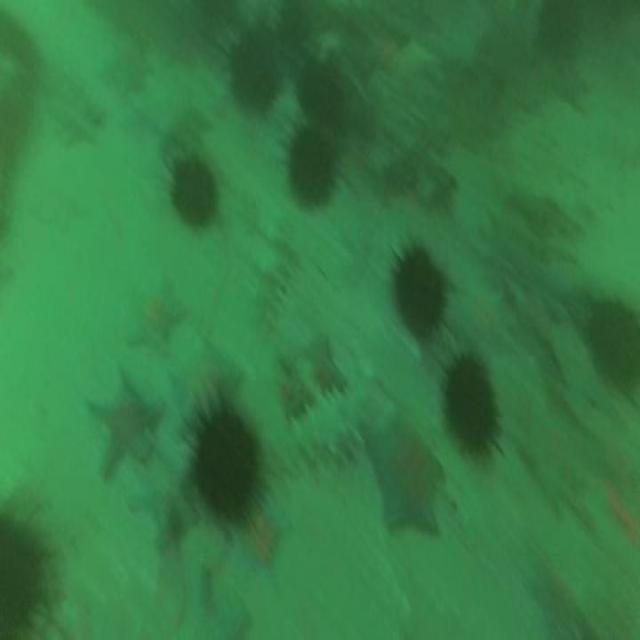echinus: (193, 414, 256, 518), (2, 512, 49, 640), (588, 297, 640, 397), (445, 357, 498, 454), (393, 247, 445, 335), (229, 27, 279, 114), (300, 59, 346, 131), (171, 157, 217, 229), (292, 132, 334, 208)
holothurian: (263, 393, 365, 478), (256, 221, 296, 332)
starfish: (365, 408, 443, 536), (84, 373, 160, 471), (129, 276, 181, 351)
